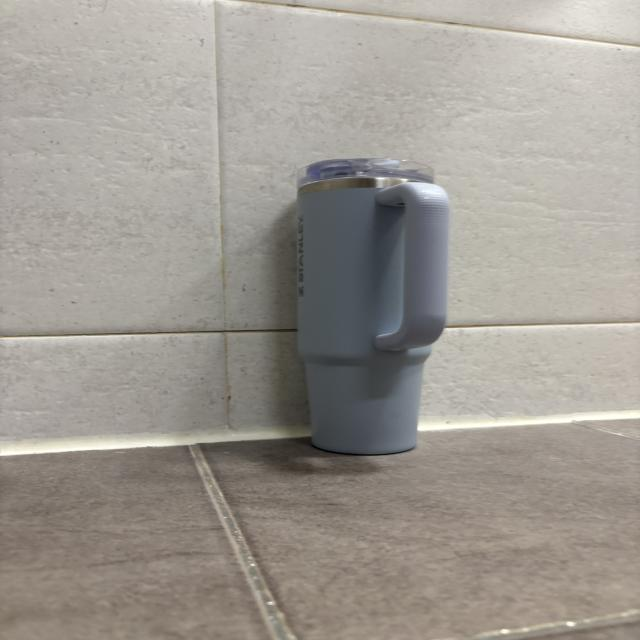waterbottle: (299, 157, 447, 456)
